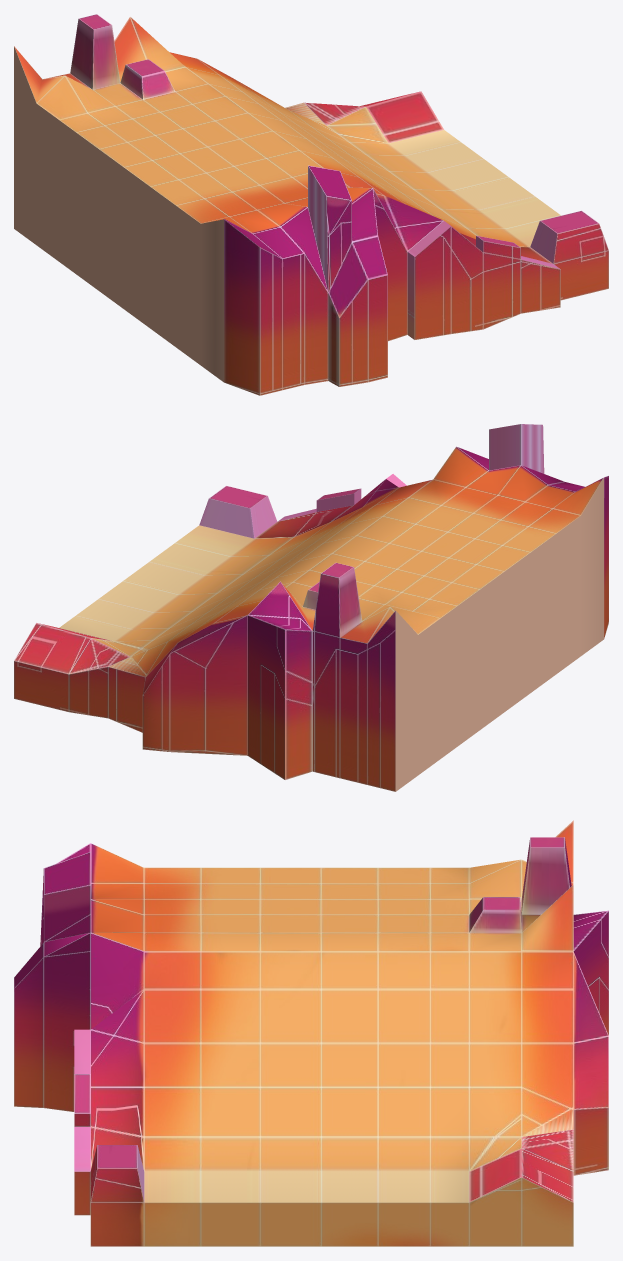
Rendered from Tile5.fbx.
3 views of the same model, one above another, from view 1: azimuth 30°, elevation 25°; view 2: azimuth 150°, elevation 25°; view 3: azimuth 270°, elevation 25° (orthographic). The views are drawn at different scales.
Visible parts, largest first — view 1: pCube1; view 2: pCube1; view 3: pCube1.
Boxes of the visible parts, x1=… form: pCube1: x1=14, y1=14, x2=608, y2=395; pCube1: x1=14, y1=424, x2=608, y2=791; pCube1: x1=14, y1=820, x2=608, y2=1246.
Size of the model in its own units: 23.98 by 12.06 by 27.94.
